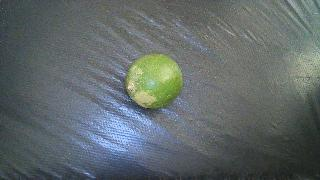DESECHO: (125, 54, 183, 109)
